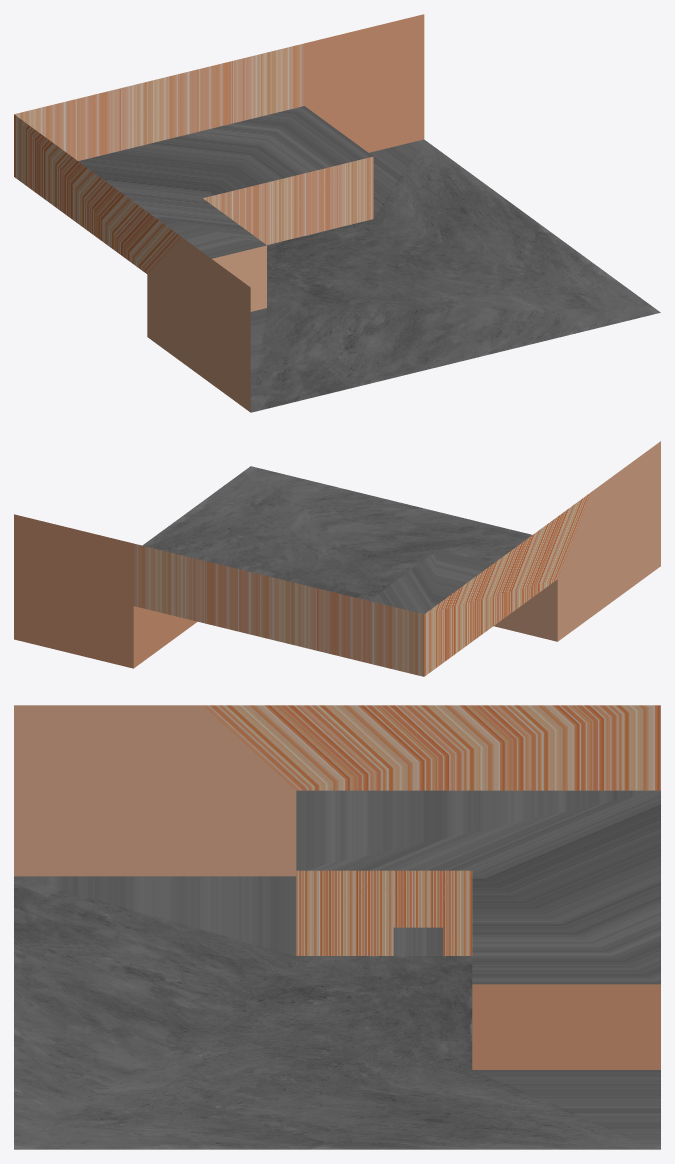
The model's file is ENV_Bar_Walls.fbx.
3 renders of one model, top to bottom at view 1: azimuth 30°, elevation 25°; view 2: azimuth 150°, elevation 25°; view 3: azimuth 270°, elevation 25°, orthographic. The views are drawn at different scales.
Parts seen in each view (by area): view 1: Plane; view 2: Plane; view 3: Plane.
Boxes of the visible parts, x1,y1,x2,y2 form: Plane: (14, 14, 660, 412); Plane: (14, 441, 660, 676); Plane: (14, 705, 660, 1149).
Bounding box in the file's own units: 2400 × 700 × 2400.
